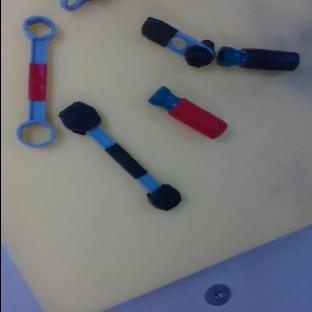part_1_bad: (134, 14, 218, 73)
part_1_good: (59, 0, 90, 11)
part_2_bad: (216, 46, 298, 72)
part_2_good: (146, 83, 228, 143)
part_3_bad: (54, 93, 183, 221)
part_3_good: (16, 16, 54, 147)
